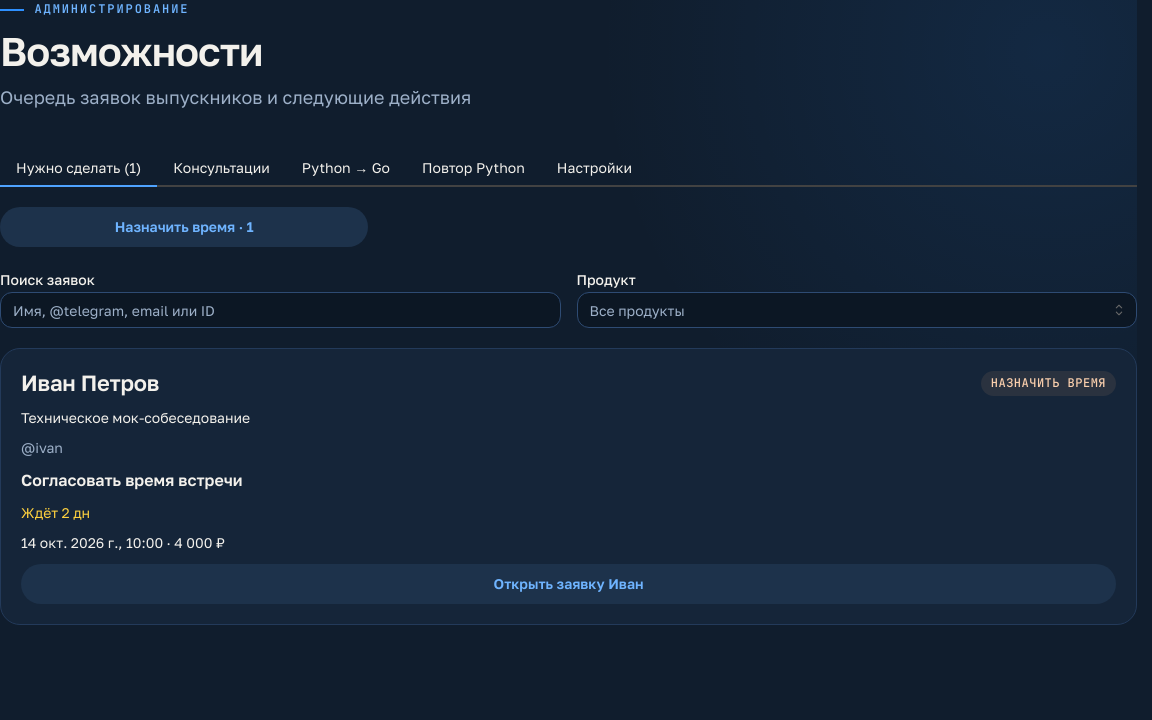
Test: открывает карточку ссылкой и закрывает кнопкой Назад
Click the button "Открыть заявку Иван".
click(568, 584)  # box top-left (21, 564), bottom-right (1116, 604)
(page scrolled)
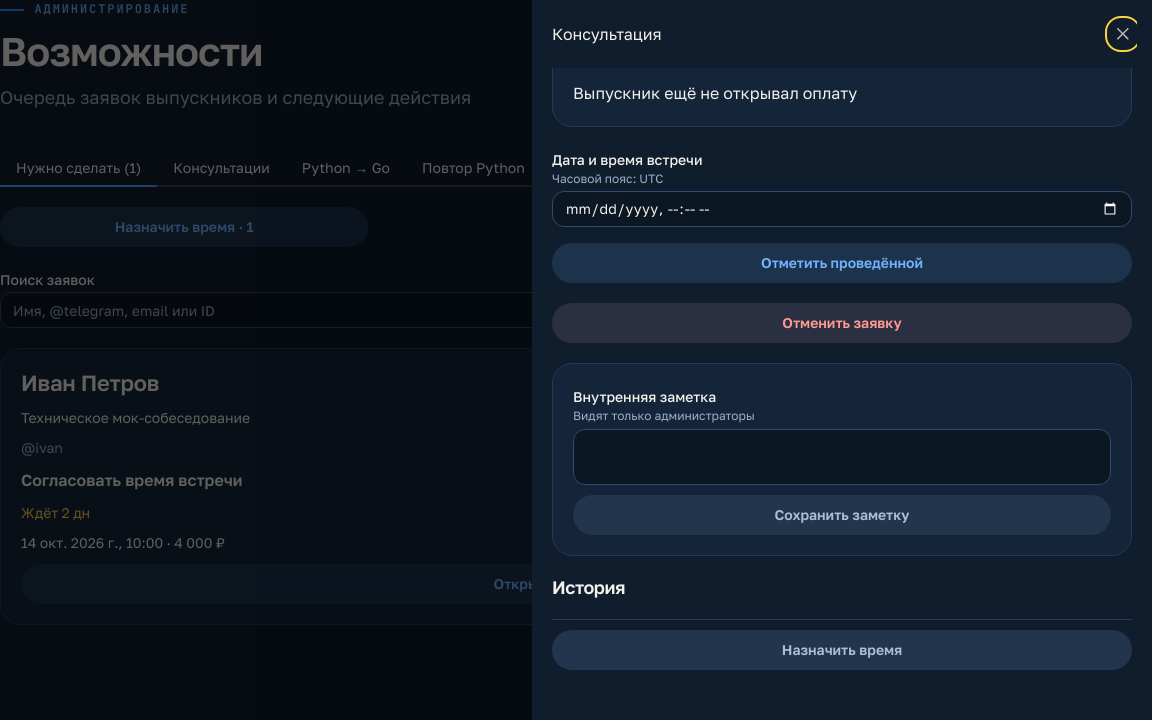
Now the text box labelled "Внутренняя заметка" is shown, box top-left (573, 429), bottom-right (1111, 485)
